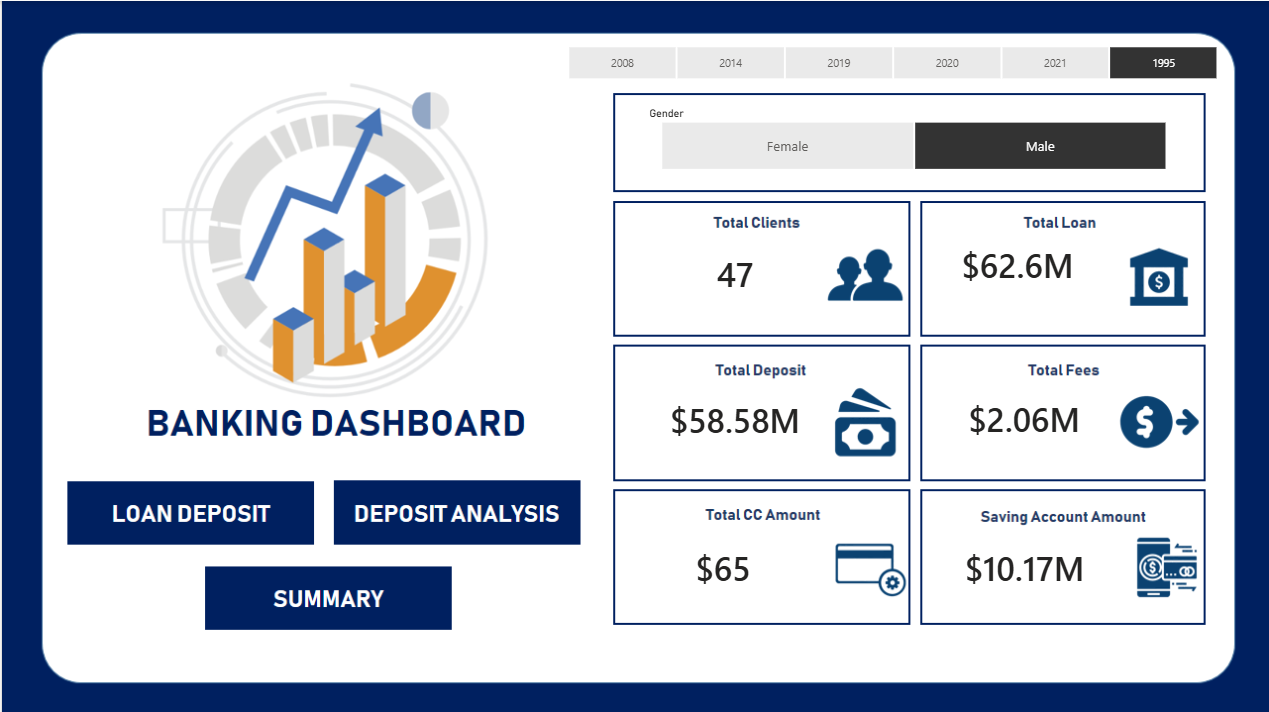

The page's visual inventory and layout, read from the dashboard file:
{"tool":"powerbi","page":{"name":"Home","canvas":[1280,720],"ordinal":0},"visuals":[{"type":"slicer","fields":{"Values":["Gender.Gender"]},"box":[640.3,100.8,558.2,75],"z":0},{"type":"card","fields":{"Values":["DAX Measures.Total Clients"]},"box":[640.3,218.1,198.2,114.9],"z":1000},{"type":"card","fields":{"Values":["DAX Measures.Total Loan"]},"box":[933.4,208.7,184.1,114.9],"z":2000},{"type":"card","fields":{"Values":["DAX Measures.Total Deposit"]},"box":[640.3,374.1,198.2,98.5],"z":3000},{"type":"card","fields":{"Values":["DAX Measures.Total CC Amount"]},"box":[628.5,533.6,198.2,79.7],"z":4000},{"type":"card","fields":{"Values":["DAX Measures.Total Fees"]},"box":[938.1,372.9,185.3,99.7],"z":5000},{"type":"card","fields":{"Values":["DAX Measures.Savings Account"]},"box":[933.4,533.6,198.2,79.7],"z":6000},{"type":"actionButton","box":[63.3,483.1,253.3,65.7],"z":7000},{"type":"actionButton","box":[335.4,485.5,250.9,63.3],"z":8000},{"type":"actionButton","box":[205.2,573.4,255.6,61],"z":9000},{"type":"slicer","fields":{"Values":["Clients - Banking.year of join"]},"box":[546.4,38.7,703.6,45.7],"z":10000}]}

Visuals, with their boxes in screenshot pixels (x1, y1, x2, y2), scaled from the page's 1280x720 canvas onto the 1269x712 screenshot:
slicer - Gender.Gender: 635:100:1188:174
card - DAX Measures.Total Clients: 635:216:831:329
card - DAX Measures.Total Loan: 925:206:1108:320
card - DAX Measures.Total Deposit: 635:370:831:467
card - DAX Measures.Total CC Amount: 623:528:820:606
card - DAX Measures.Total Fees: 930:369:1114:467
card - DAX Measures.Savings Account: 925:528:1122:606
actionButton: 63:478:314:543
actionButton: 333:480:581:543
actionButton: 203:567:457:627
slicer - Clients - Banking.year of join: 542:38:1239:83
